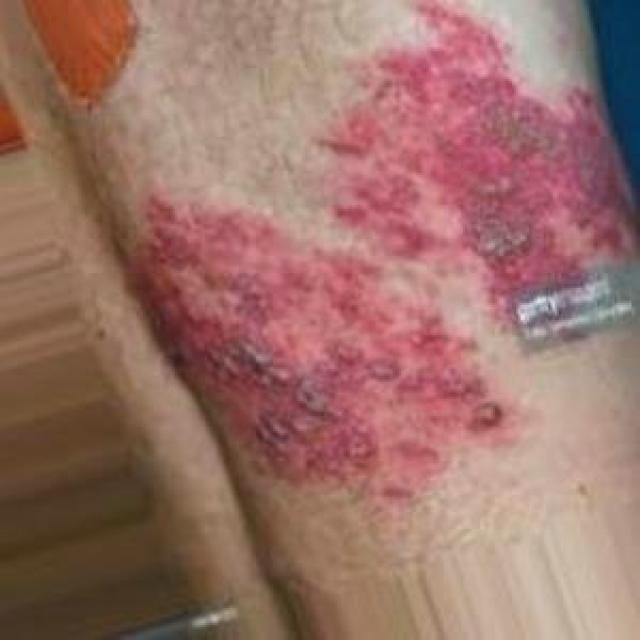Shingles: (136, 191, 504, 504), (315, 1, 634, 319)
